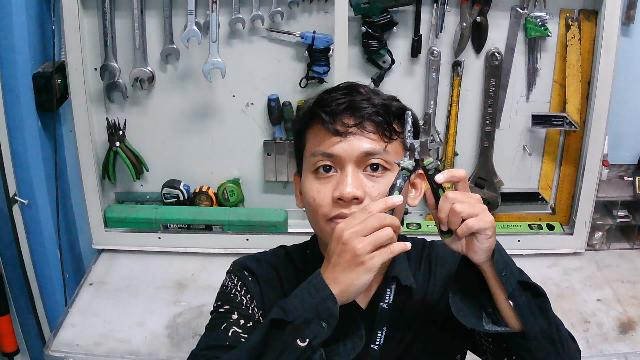tang_kombinasi: (384, 112, 453, 242)
